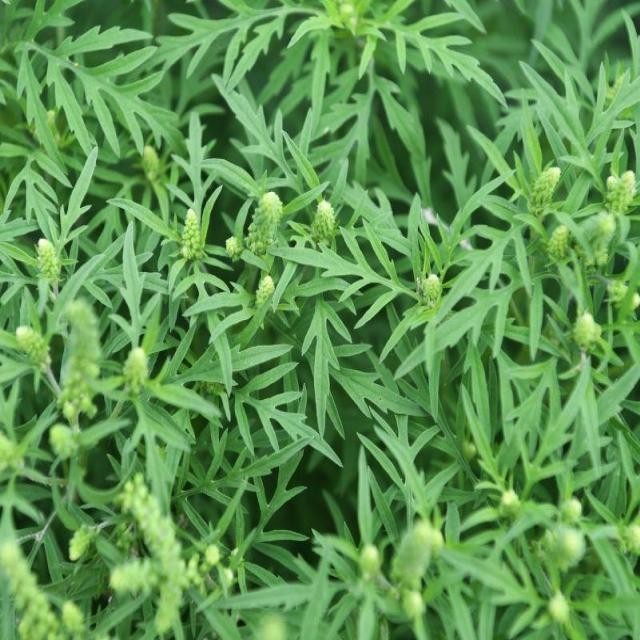ambrosia: (379, 192, 600, 637), (13, 270, 209, 592), (249, 137, 487, 358), (506, 140, 628, 345), (160, 173, 232, 311)
